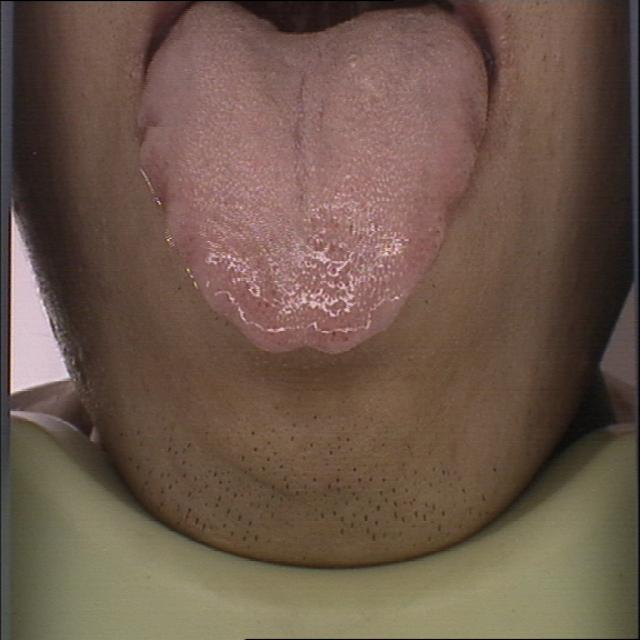tongue: (127, 2, 503, 364)
